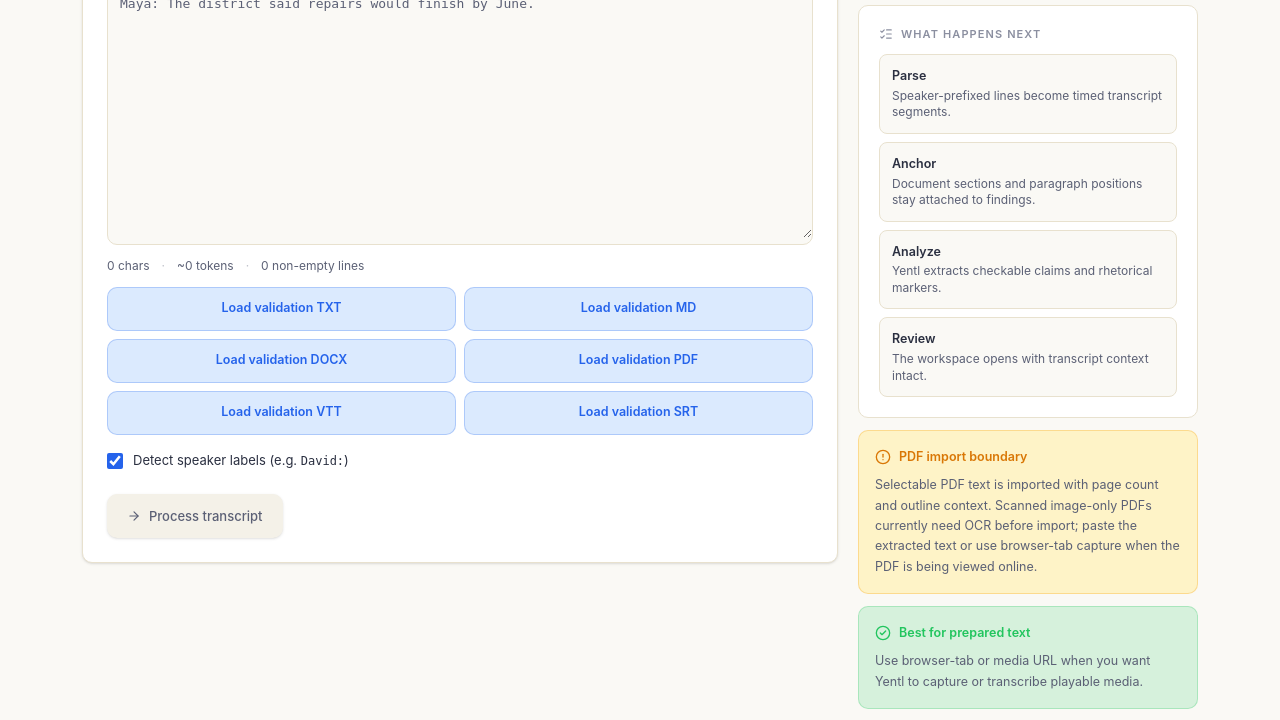
it: TextIngestPane — file drop › loads the validation DOCX fixture through the binary file reader path
(page scrolled)
Click the button "Load validation DOCX": (282, 361) [107,339,456,383]
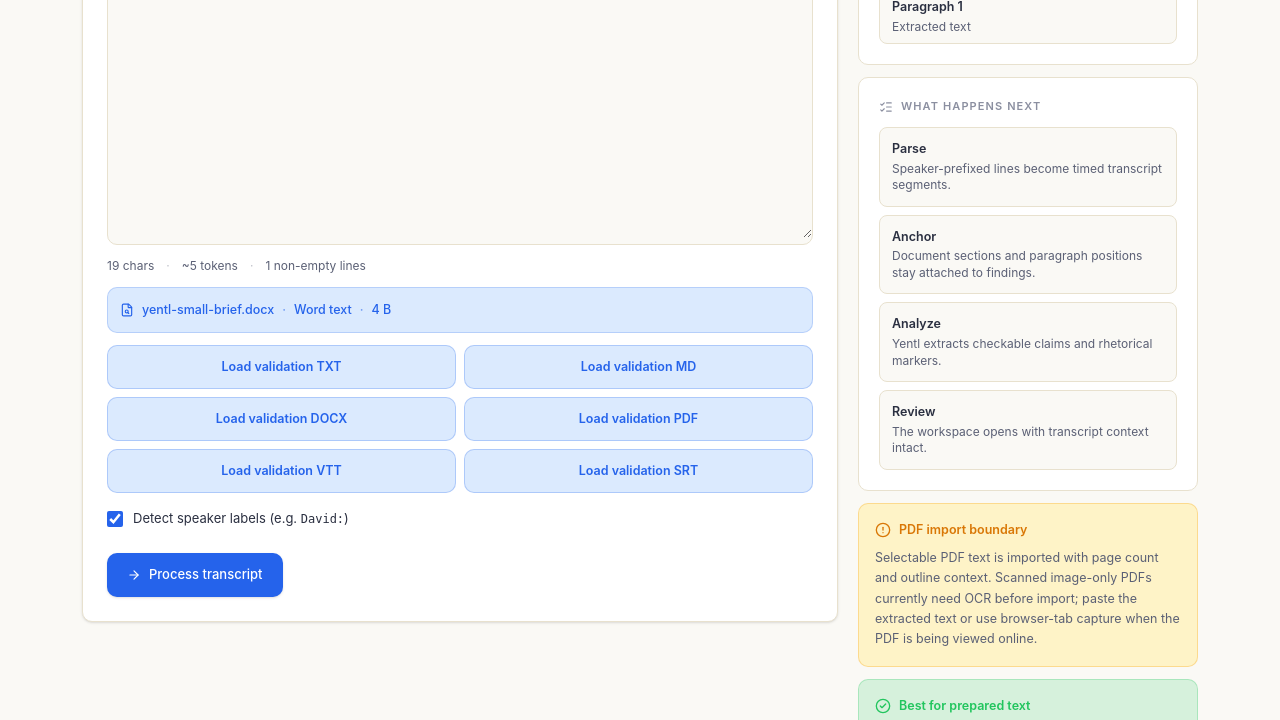
Expected: the text "yentl-small-brief.docx" is shown, [142,300,274,320]
